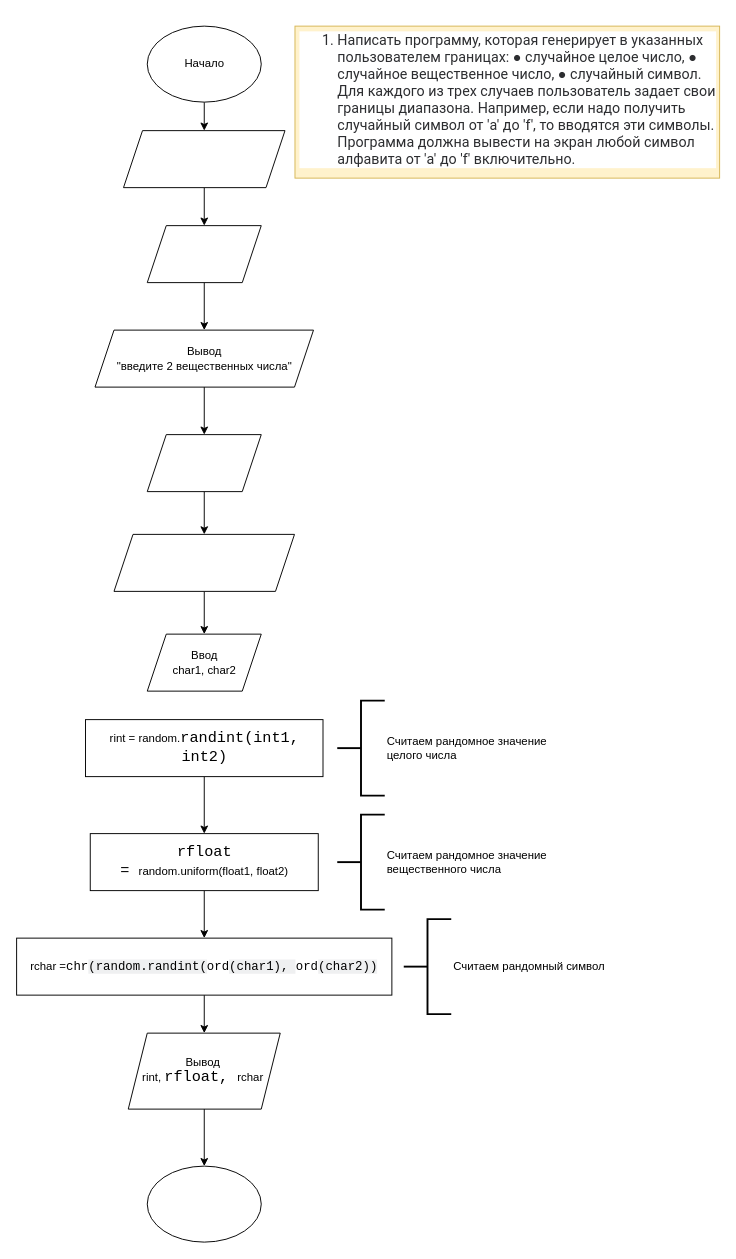
Some shapes in this 736 by 1259 pixel diagram are drawn without their labels. The centre of each missing label's shape, as x and y in pixels:
Ввод float1, float2: point (203, 463)
Ввод int1, int2: point (203, 254)
Вывод "введите 2 символа": point (203, 562)
Вывод "введите 2 целых числа": point (204, 159)
Конец: point (203, 1203)
